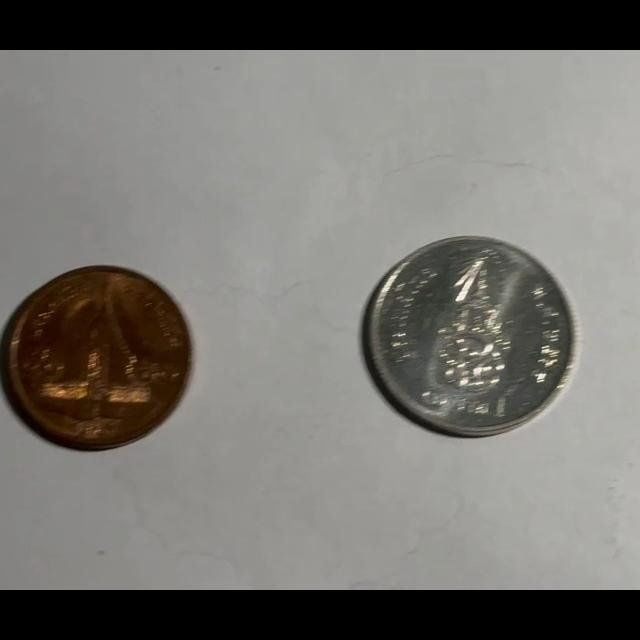1-baht: (363, 235, 580, 438)
50-satang: (0, 266, 190, 450)
